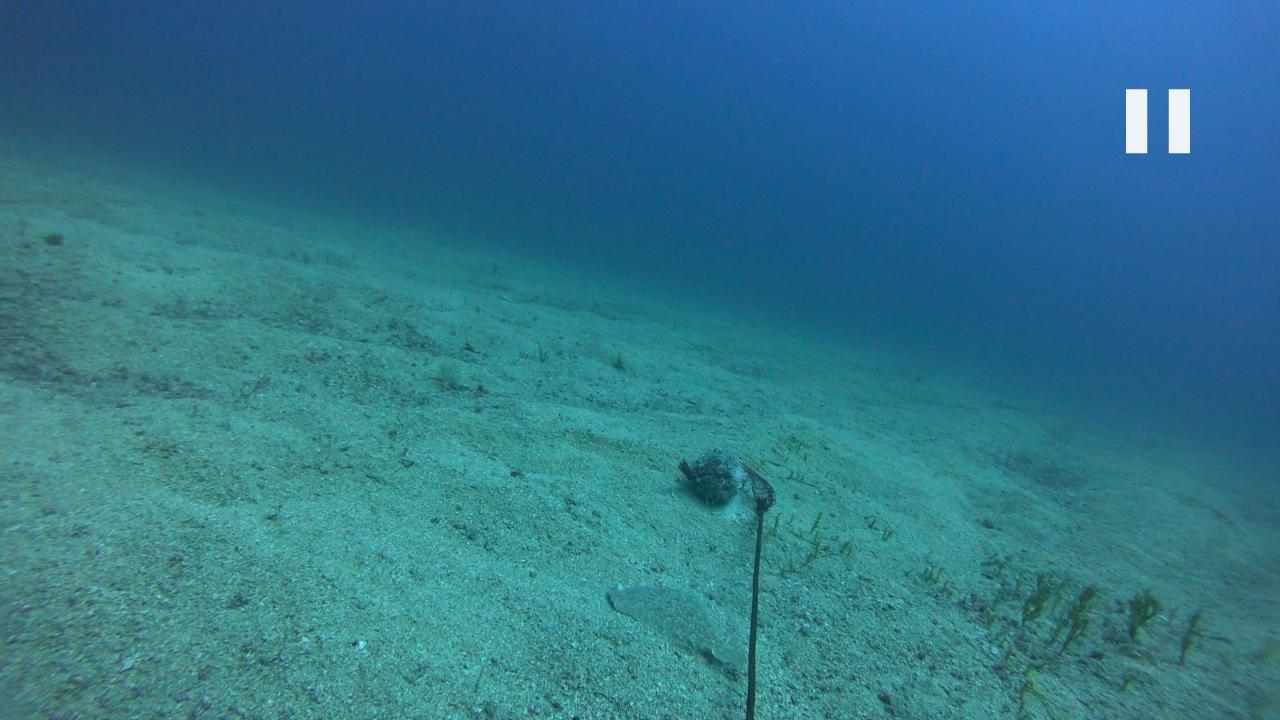bothus: (604, 557, 746, 668)
